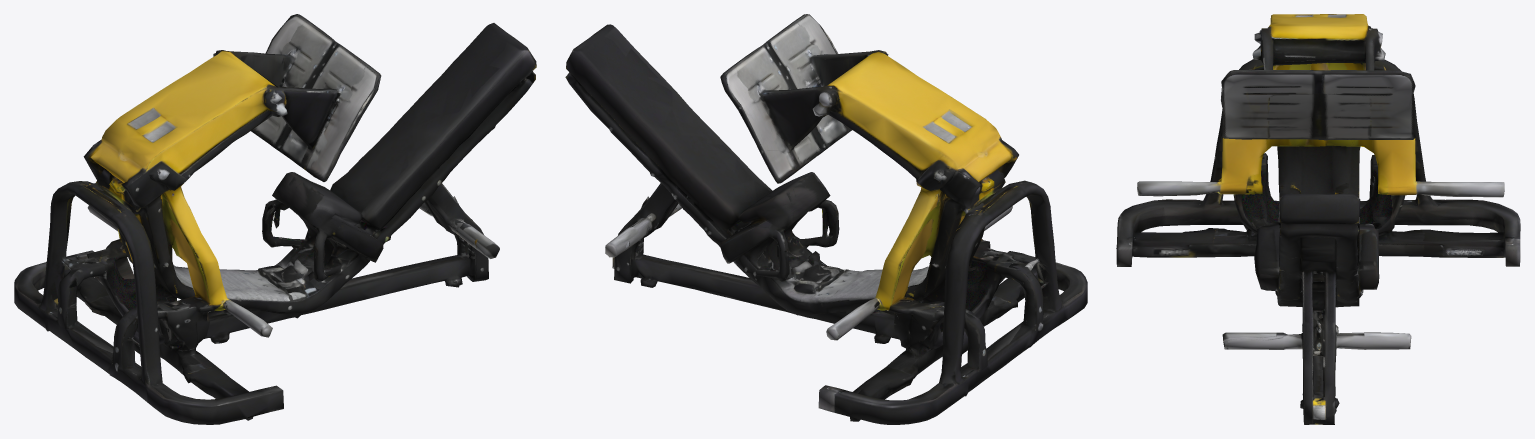
The model's file is Maquina_de_Piernas_Prensa_de_40_Grados.glb.
3 views of the same model, side by side, from view 1: azimuth 30°, elevation 25°; view 2: azimuth 150°, elevation 25°; view 3: azimuth 270°, elevation 25° (orthographic). The views are drawn at different scales.
Bounding box in the file's own units: 1.99 × 1.19 × 1.54.
1 material, 1 textured.
